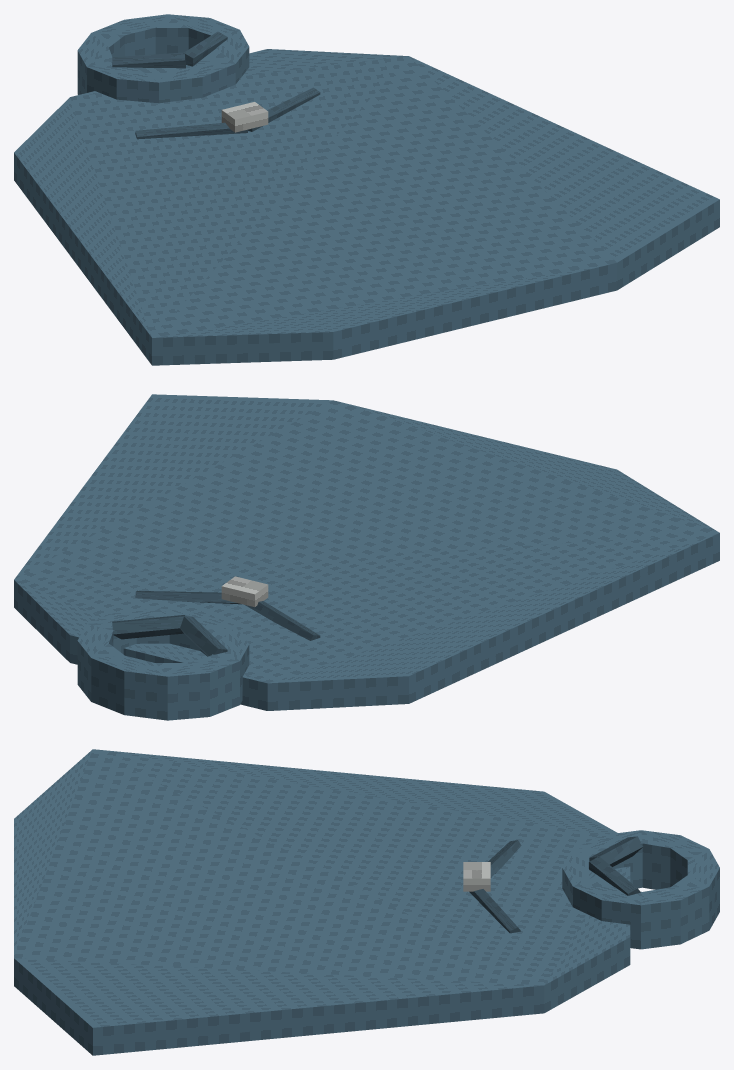
File: cloak_wool.glb
The picture shows the model from 3 angles, top to bottom: view 1: azimuth 30°, elevation 25°; view 2: azimuth 150°, elevation 25°; view 3: azimuth 270°, elevation 25°; orthographic projection.
Visible parts, largest first — view 1: block_draped cape, block_folded hood, block_cloak clasp, block_neck tie 0, block_hood facing 0, block_hood facing 1, block_neck tie 1; view 2: block_draped cape, block_folded hood, block_hood facing 1, block_cloak clasp, block_neck tie 1, block_hood facing 0, block_neck tie 0; view 3: block_draped cape, block_folded hood, block_cloak clasp, block_hood facing 1, block_hood facing 0, block_neck tie 1, block_neck tie 0.
Boxes of the visible parts, x1=… form: block_draped cape: x1=14, y1=49, x2=719, y2=365; block_folded hood: x1=77, y1=14, x2=249, y2=103; block_cloak clasp: x1=221, y1=102, x2=268, y2=132; block_neck tie 0: x1=135, y1=122, x2=247, y2=139; block_hood facing 0: x1=112, y1=52, x2=185, y2=68; block_hood facing 1: x1=183, y1=31, x2=227, y2=66; block_neck tie 1: x1=248, y1=87, x2=320, y2=131; block_draped cape: x1=14, y1=394, x2=719, y2=710; block_folded hood: x1=77, y1=608, x2=249, y2=720; block_hood facing 1: x1=112, y1=615, x2=184, y2=639; block_cloak clasp: x1=221, y1=576, x2=268, y2=607; block_neck tie 1: x1=135, y1=590, x2=241, y2=604; block_hood facing 0: x1=180, y1=616, x2=227, y2=656; block_neck tie 0: x1=245, y1=601, x2=320, y2=640; block_draped cape: x1=14, y1=749, x2=630, y2=1055; block_folded hood: x1=562, y1=830, x2=719, y2=949; block_cloak clasp: x1=463, y1=862, x2=490, y2=891; block_hood facing 1: x1=589, y1=856, x2=640, y2=895; block_hood facing 0: x1=589, y1=836, x2=642, y2=866; block_neck tie 1: x1=469, y1=889, x2=521, y2=933; block_neck tie 0: x1=488, y1=840, x2=521, y2=877.
Bounding box in the file's own units: 0.6893 × 0.0691 × 0.738.
Materials: 1 (1 with a texture image).
